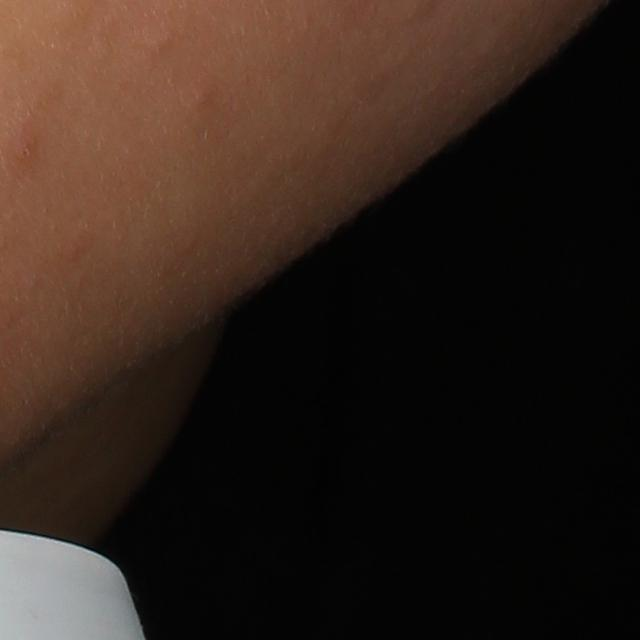comedo: (189, 81, 219, 113), (145, 29, 170, 53)
